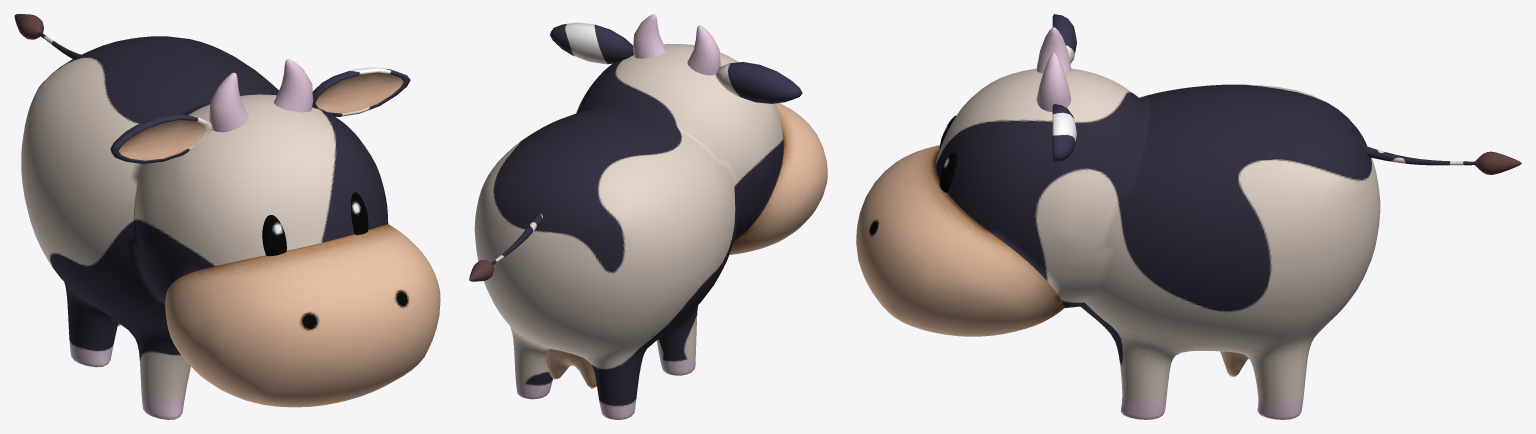
The model's file is cow.glb.
3 renders of one model, left to right at view 1: azimuth 30°, elevation 25°; view 2: azimuth 150°, elevation 25°; view 3: azimuth 270°, elevation 25°, orthographic. The views are drawn at different scales.
Visible parts, largest first — view 1: Badan_Retopo_Circle.004; view 2: Badan_Retopo_Circle.004; view 3: Badan_Retopo_Circle.004.
Boxes of the visible parts, box(x1,y1,x2,y2) form: Badan_Retopo_Circle.004: box(14, 14, 440, 419); Badan_Retopo_Circle.004: box(469, 14, 827, 419); Badan_Retopo_Circle.004: box(856, 14, 1521, 419).
Size of the model in its own units: 2.08 by 2.45 by 4.23.
3 materials, 1 textured.
